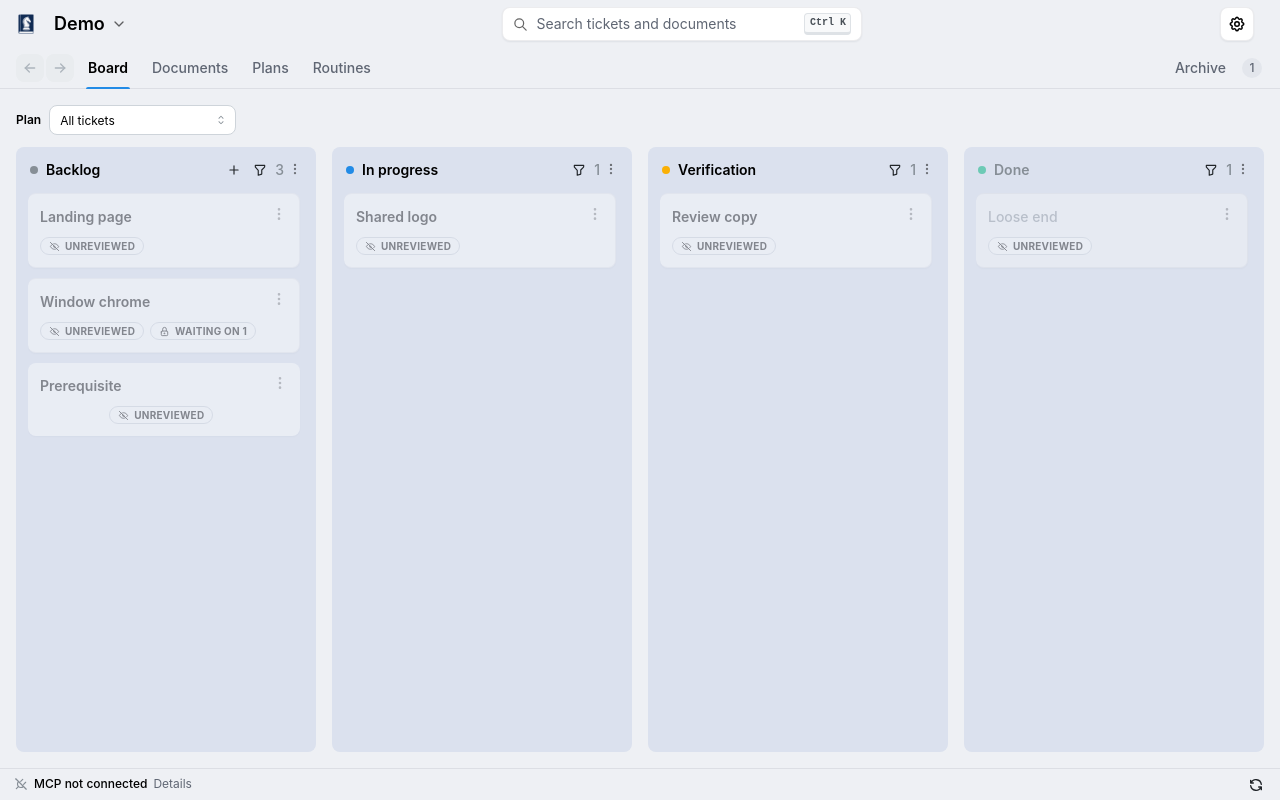
Test case: the plan filter › filters Verification too, and never counts an archived ticket a plan links
The width and height of the screenshot is (1280, 800).
Click the dropdown labelled "Plan": coordinates (143, 120) [49,105,236,135]
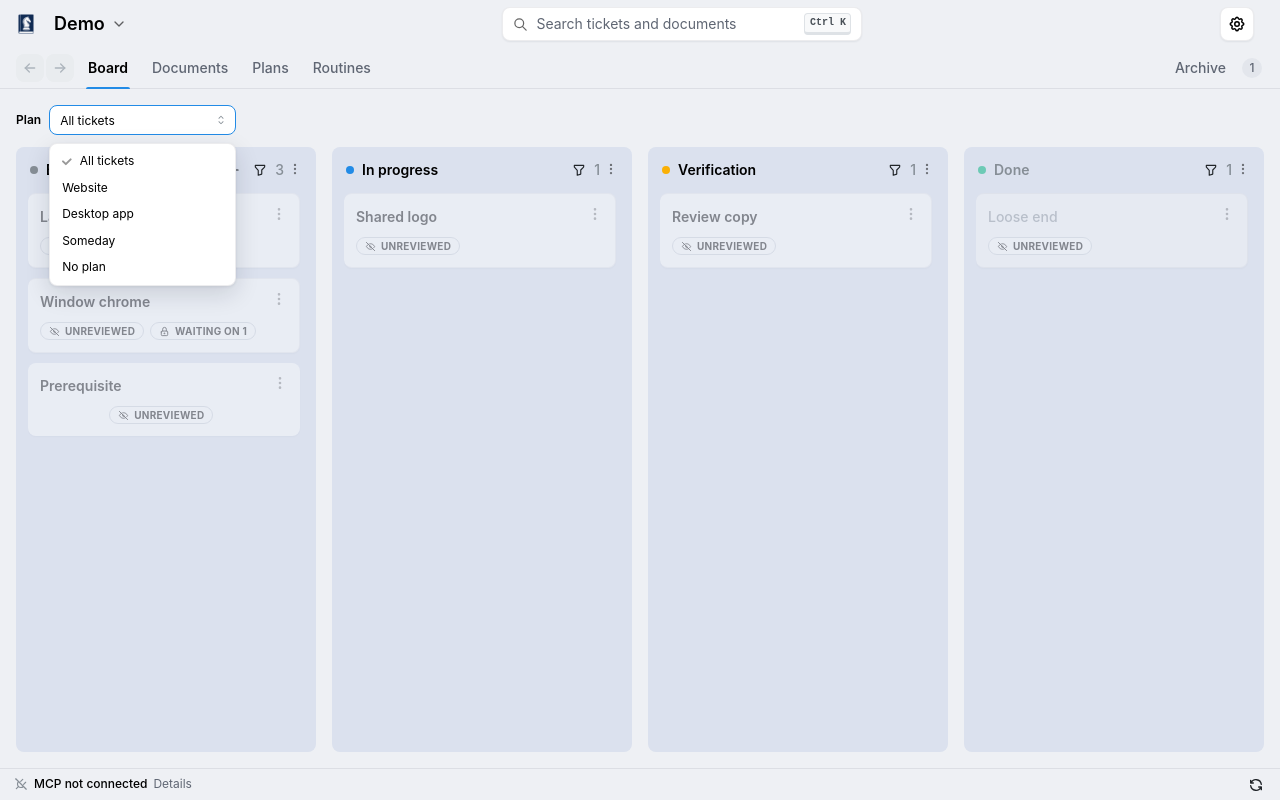
Click the option "Website": coordinates (85, 187) [62,180,108,195]
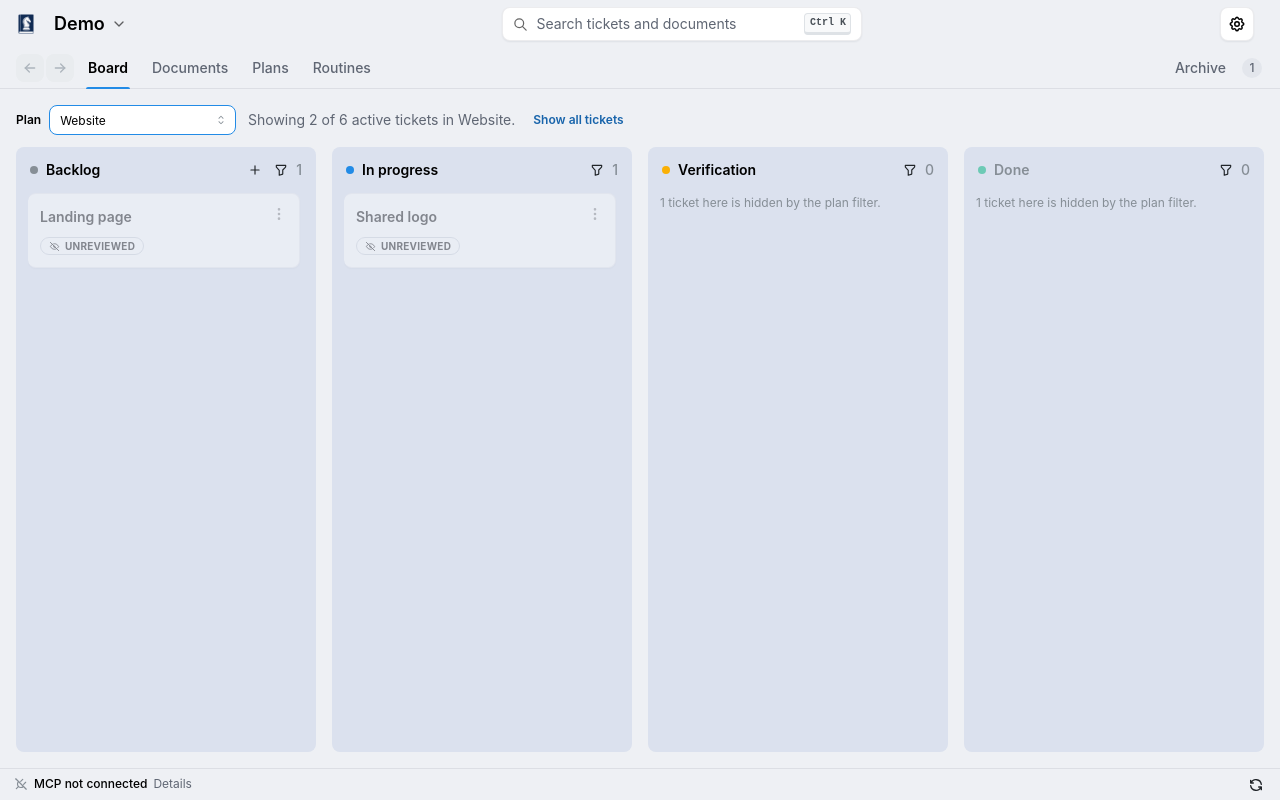
Expected: the text named "1 in In progress" is shown, [612,160,618,180]
Result: the text named "0 in Verification" is shown at [925,160,934,180]
Result: the text "Showing 2 of 6 active tickets in Website." is shown at [248,110,515,130]
